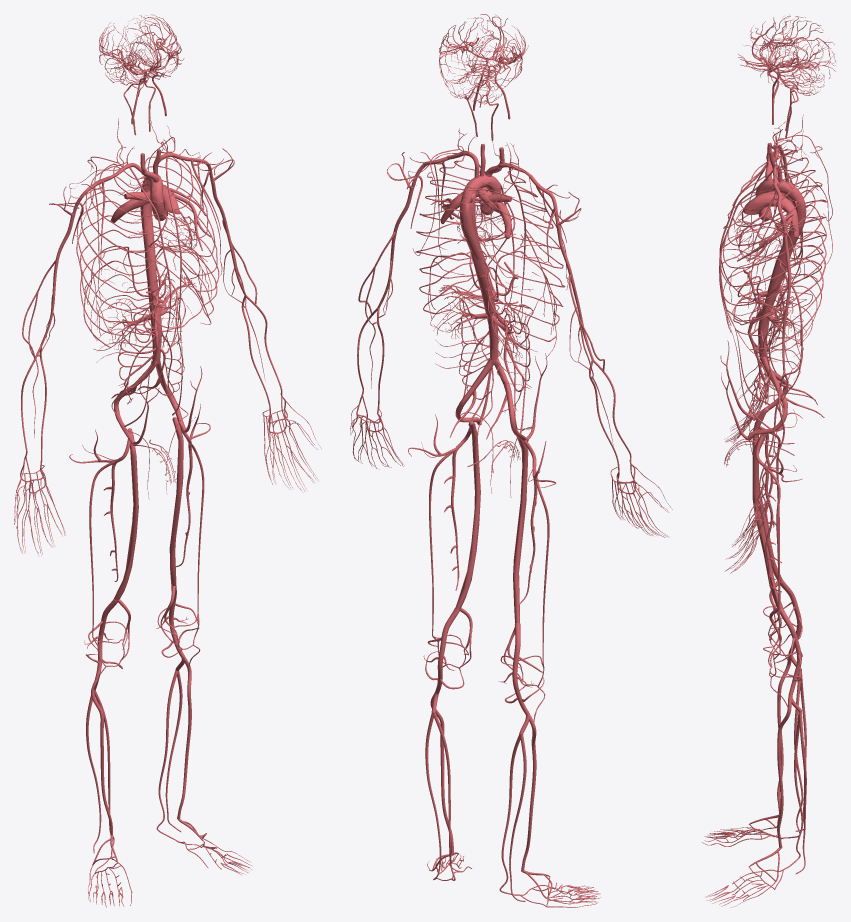
File: bp3d-arteries-male.glb
3 renders of one model, left to right at view 1: azimuth 30°, elevation 25°; view 2: azimuth 150°, elevation 25°; view 3: azimuth 270°, elevation 25°, orthographic. The views are drawn at different scales.
Parts seen in each view (by area): view 1: Arteries; view 2: Arteries; view 3: Arteries.
Boxes of the visible parts, box(x1,y1,x2,y2) form: Arteries: box(14, 14, 321, 907); Arteries: box(350, 14, 672, 907); Arteries: box(701, 14, 835, 907).
Size of the model in its own units: 0.6489 by 1.7 by 0.245.
